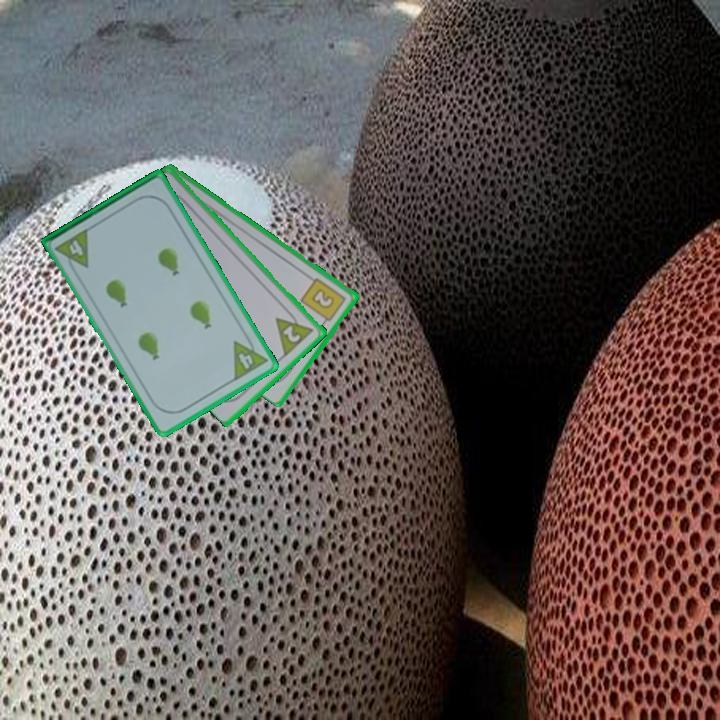2b: (298, 274, 349, 328)
2p: (272, 305, 317, 359)
4p: (230, 331, 271, 384), (52, 225, 92, 276)
